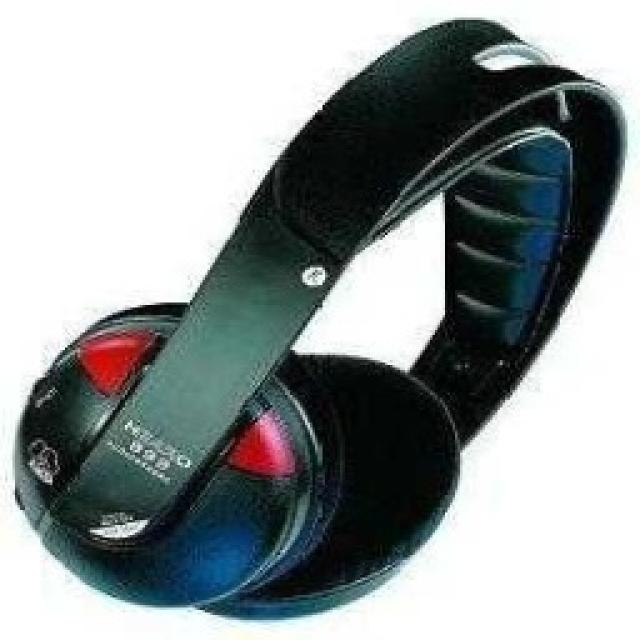kulaklik: (0, 1, 630, 624)
